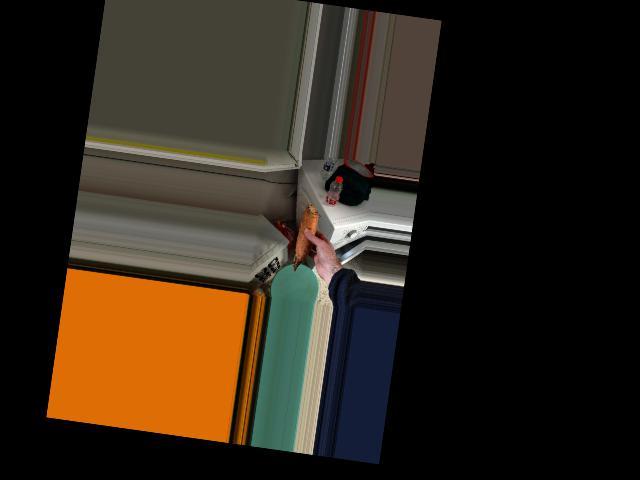sweet_potato: (295, 200, 322, 269)
